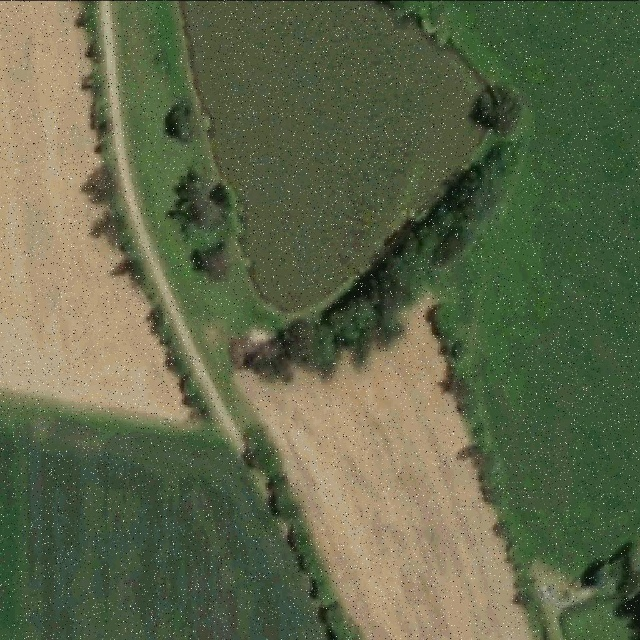vegetation: (232, 85, 539, 613), (81, 0, 219, 419), (238, 421, 371, 640), (165, 96, 230, 279), (579, 539, 640, 640)
